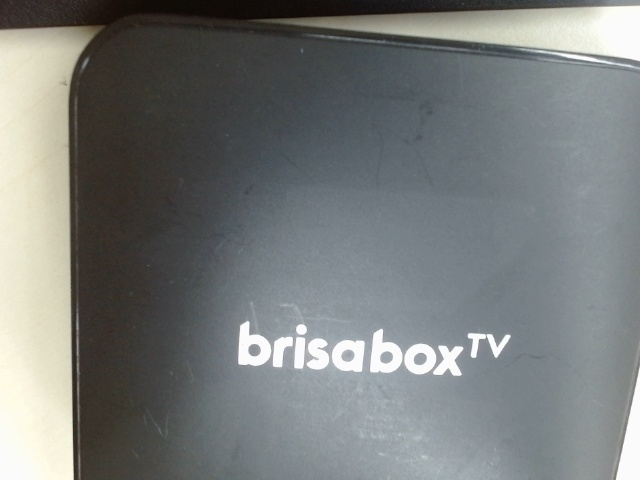AH_brisabox: (227, 313, 519, 385)
